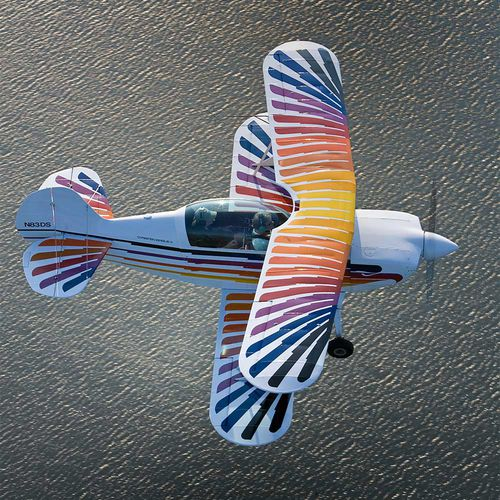Aeronef_de_loisir: (11, 36, 471, 454)
